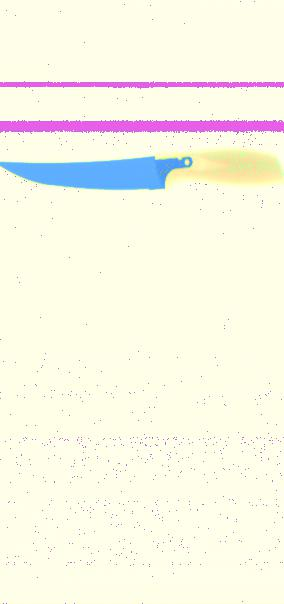Knife: (1, 149, 283, 194)
